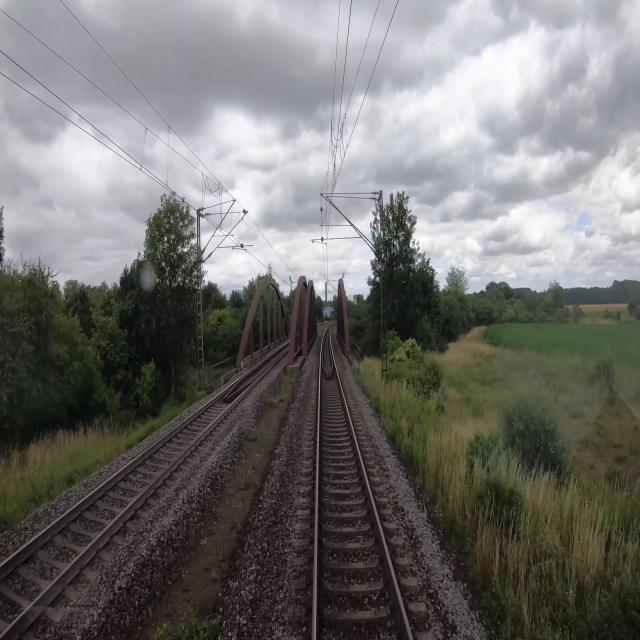Plant: (153, 370, 294, 614), (224, 344, 289, 401), (154, 604, 219, 639), (322, 330, 333, 377)
